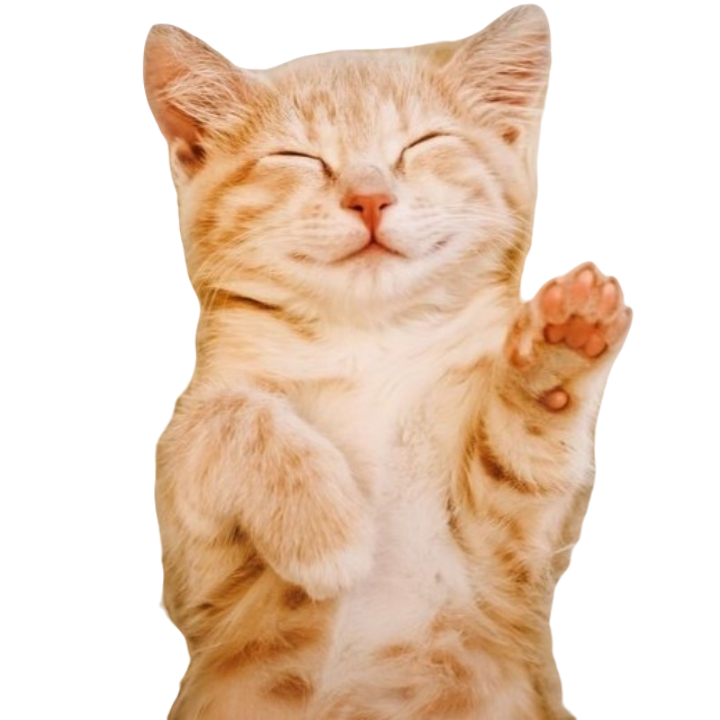Cat: (90, 1, 639, 719)
